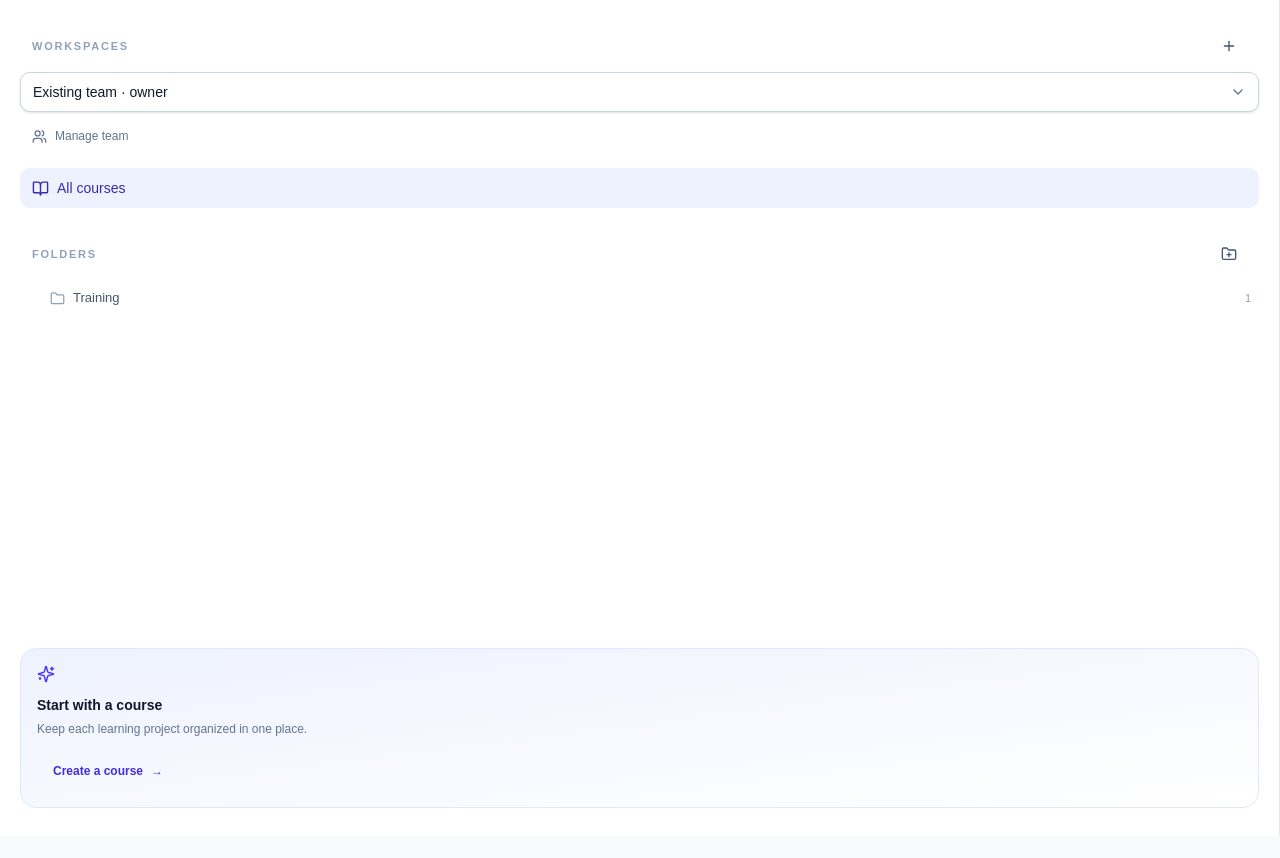
dashboard loading and shared controls › keeps the creation form open with the entered name when creation fails
Click the button named "Create team workspace" at x=1229, y=46, box [1211,28,1247,64]
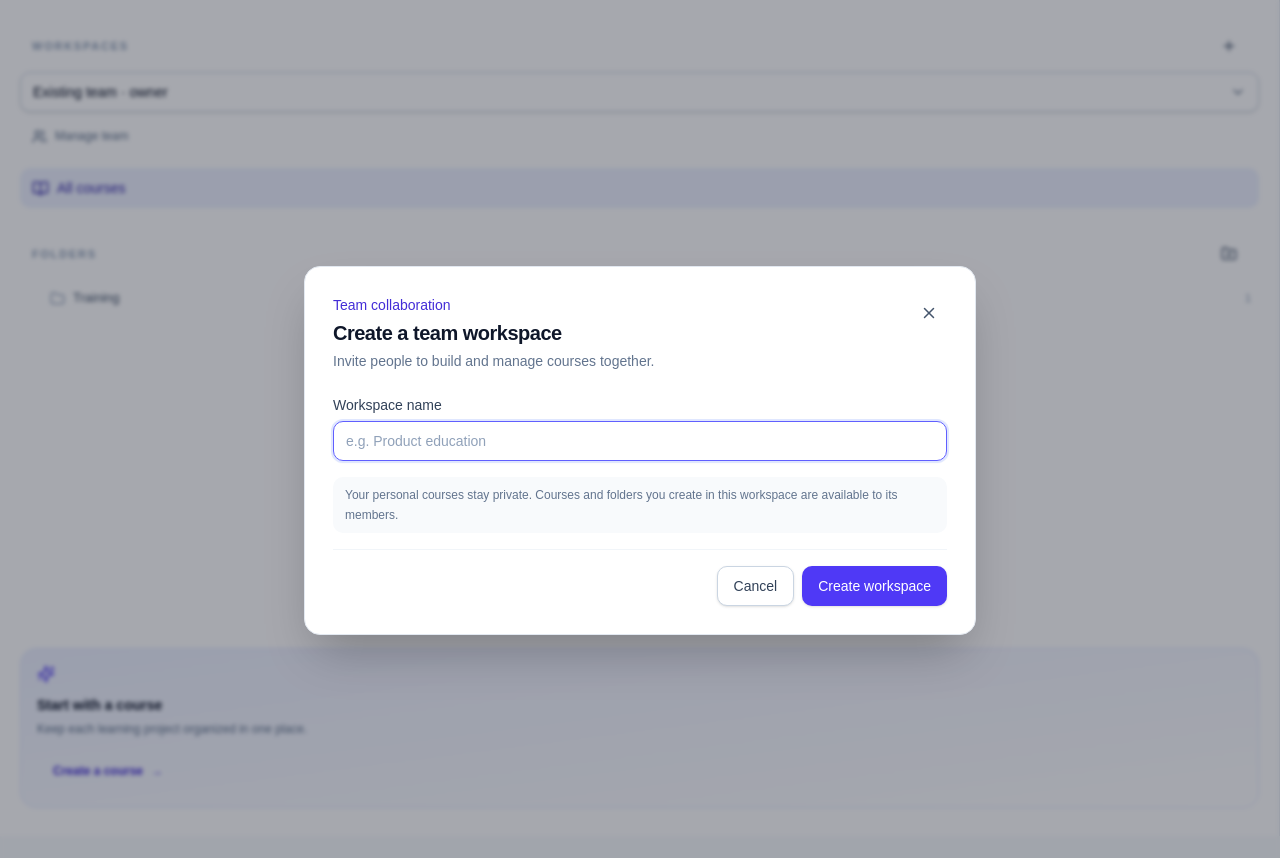
Type "New team" into the field named "name" at x=640, y=440, box [333,420,947,460]
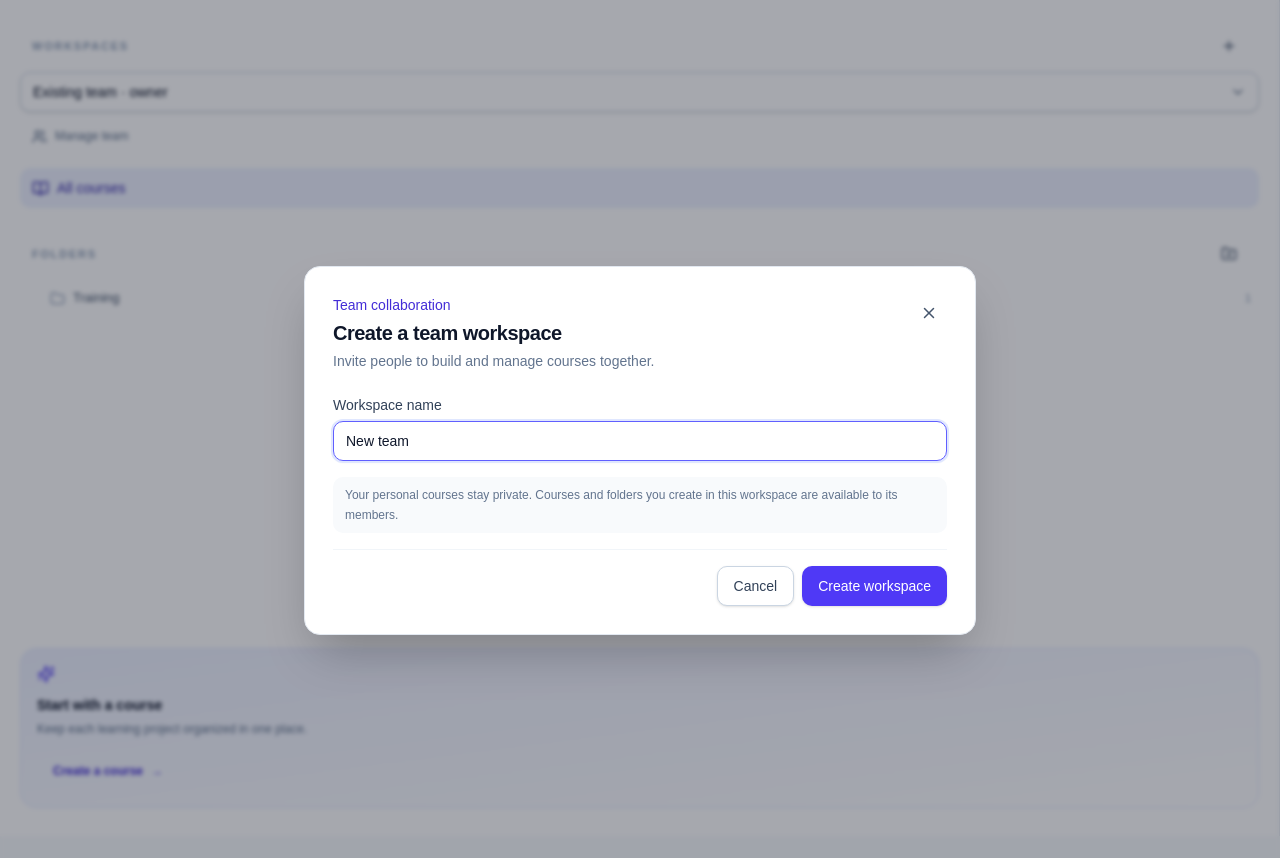
Submit the form, box [333,394,947,606]
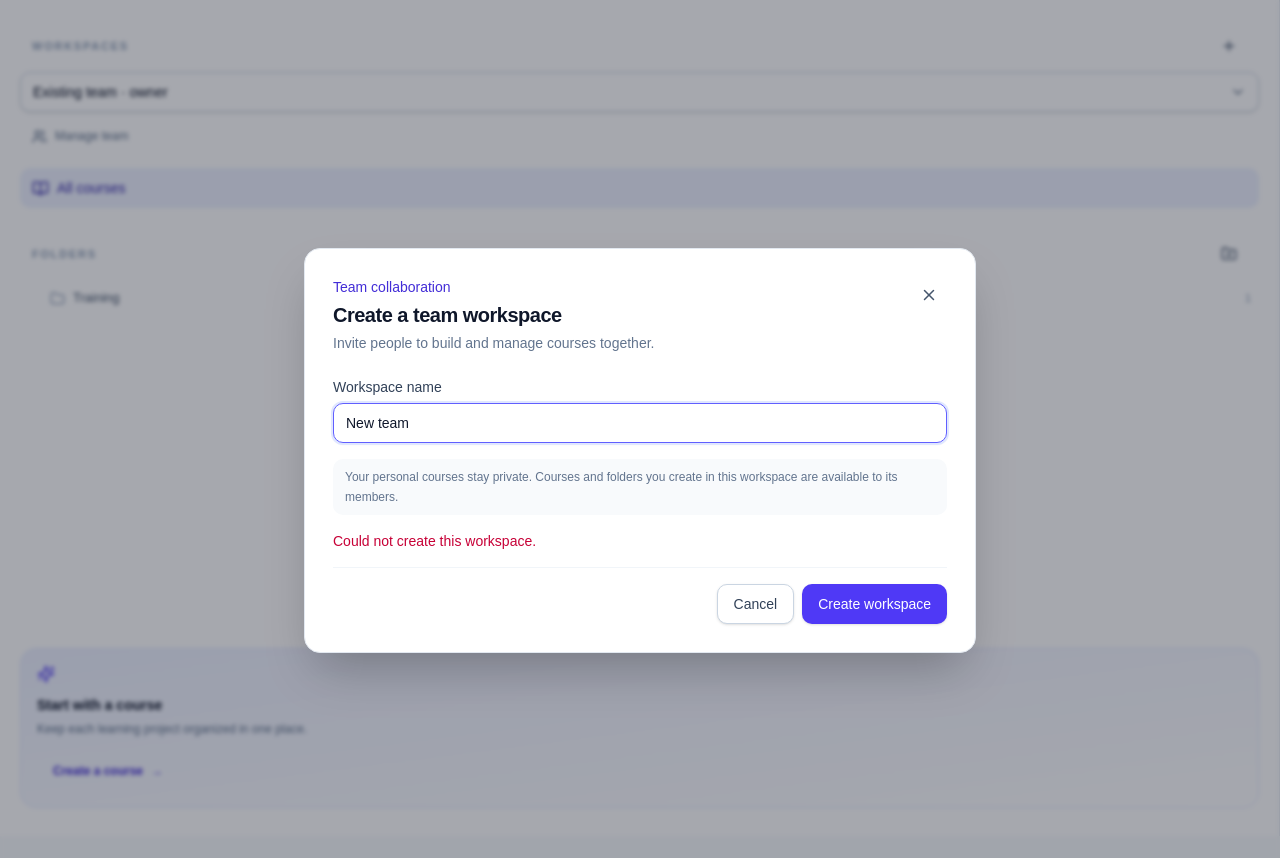
Result: the submit button is enabled at [802,584,947,624]
Result: the message "Could not create this workspace." is shown at [333,532,536,548]
